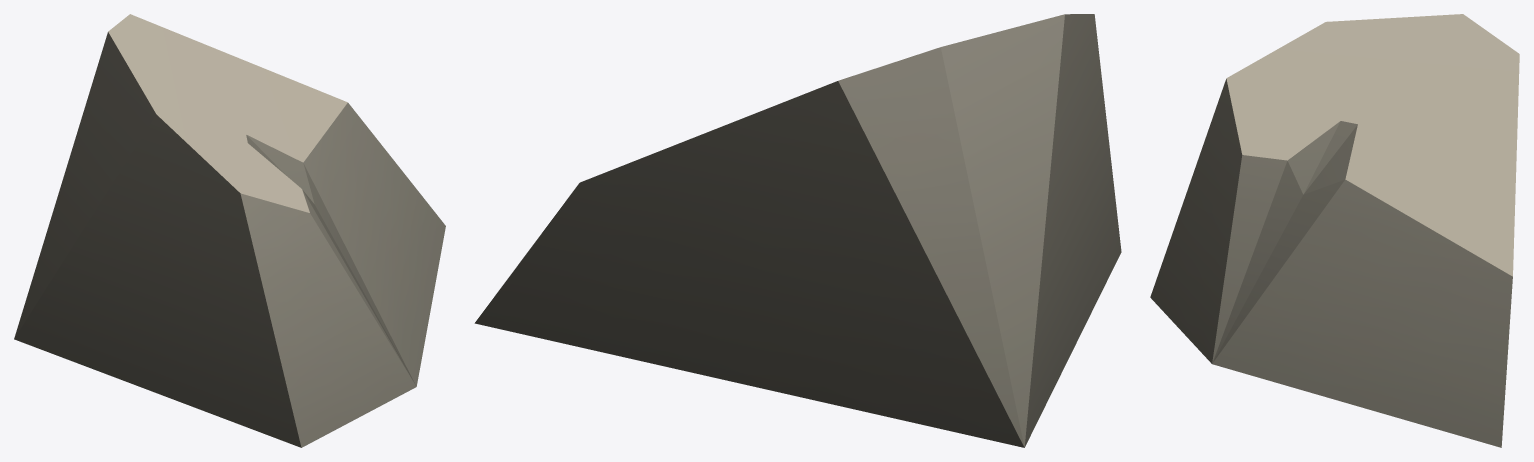
The model's file is Rock_Small_1E.fbx.
The picture shows the model from 3 angles, left to right: view 1: azimuth 30°, elevation 25°; view 2: azimuth 150°, elevation 25°; view 3: azimuth 270°, elevation 25°; orthographic projection. The views are drawn at different scales.
Visible parts, largest first — view 1: Rock_Small_1E; view 2: Rock_Small_1E; view 3: Rock_Small_1E.
Boxes of the visible parts, x1=… form: Rock_Small_1E: x1=14, y1=14, x2=445, y2=447; Rock_Small_1E: x1=474, y1=14, x2=1121, y2=447; Rock_Small_1E: x1=1150, y1=14, x2=1519, y2=447.
Size of the model in its own units: 0.5016 by 0.3239 by 0.3971.
